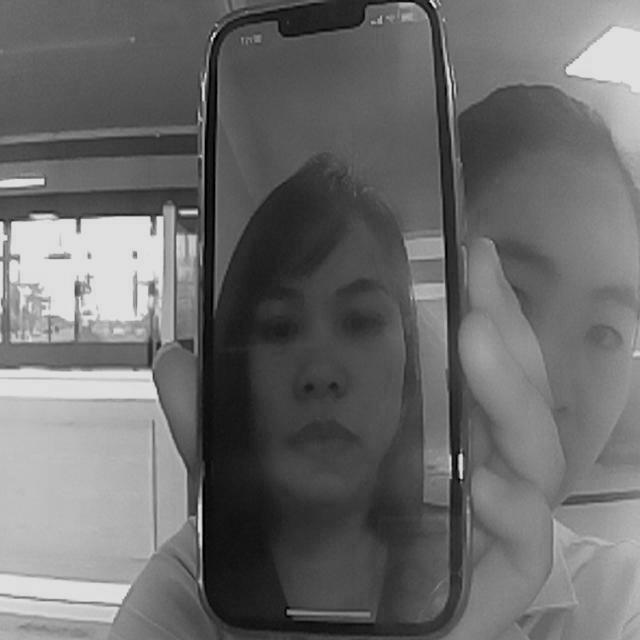fake: (190, 1, 471, 640)
